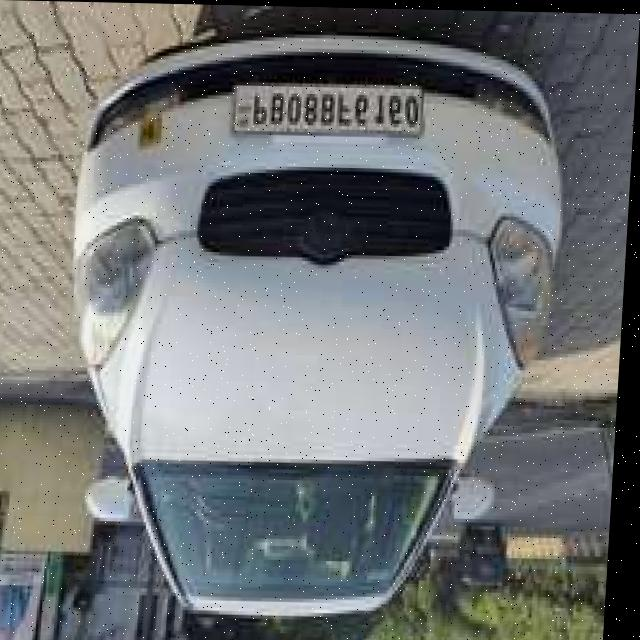plate: (233, 75, 429, 139)
